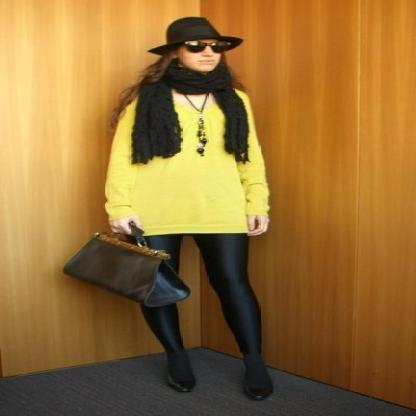bag: (63, 224, 190, 306)
dress: (104, 89, 268, 235)
hat: (148, 16, 217, 62)
pants: (142, 233, 274, 381)
shoe: (166, 376, 272, 400)
sunglass: (212, 33, 242, 58)
